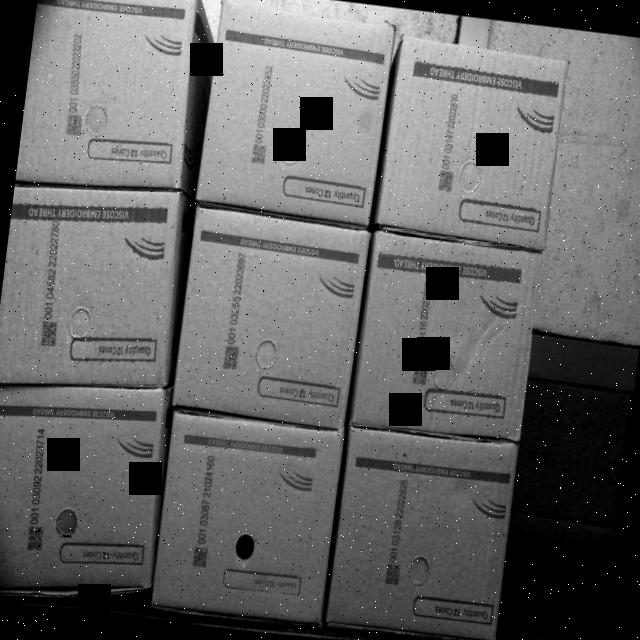box: (166, 198, 374, 434), (192, 0, 398, 226), (146, 406, 347, 630), (325, 416, 523, 640), (372, 28, 571, 248), (348, 225, 542, 444), (0, 369, 177, 605), (0, 179, 184, 392), (15, 0, 205, 198)
